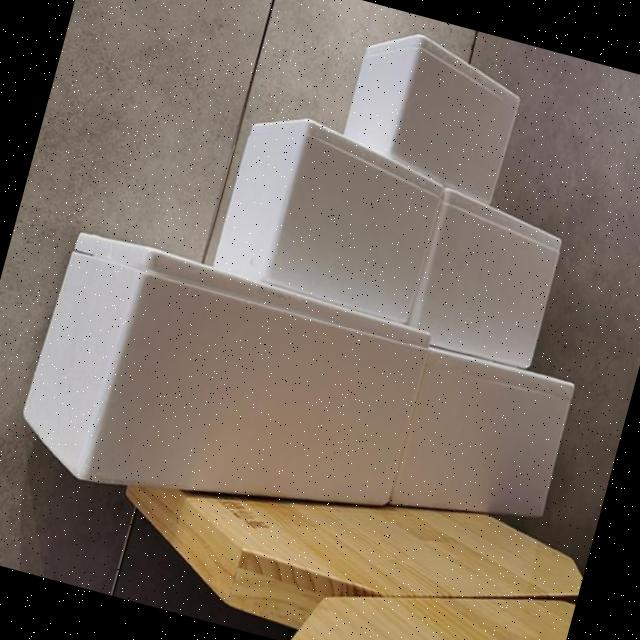styrofoam: (7, 0, 640, 599), (8, 223, 438, 560)
